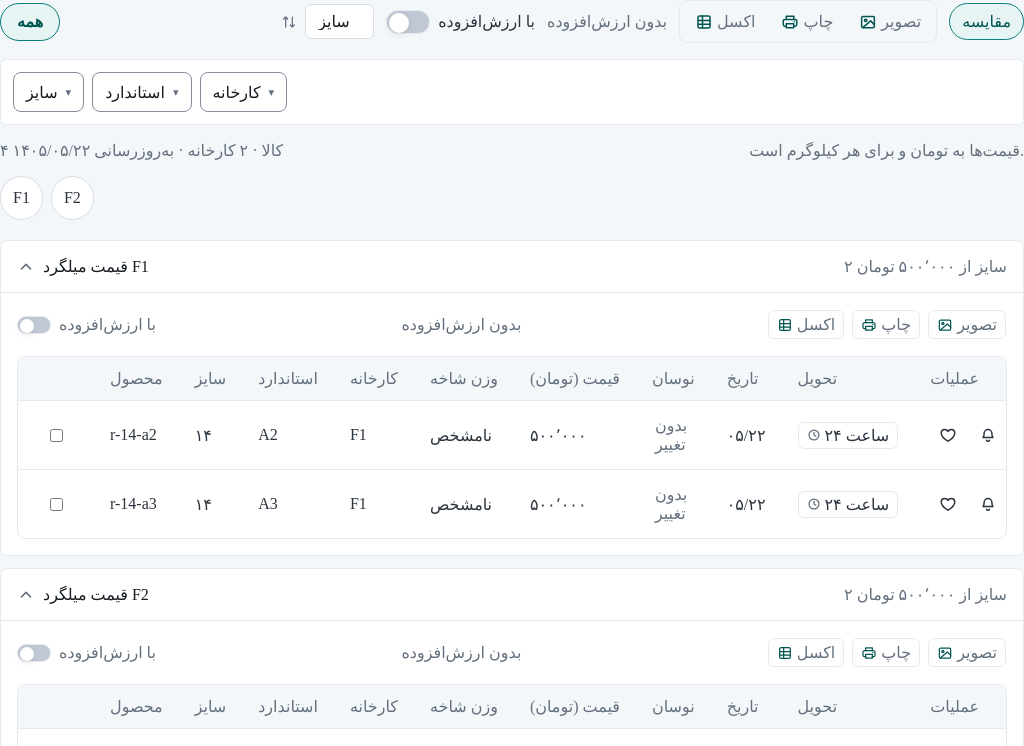
it: PriceTable — spec filter bar (owner request 1405/06/02) › ANDs two different columns: size ۱۴ AND grade A2 leaves exactly one row
Click the button "سایز ▾".
click(49, 92)  # box [13,72,84,112]
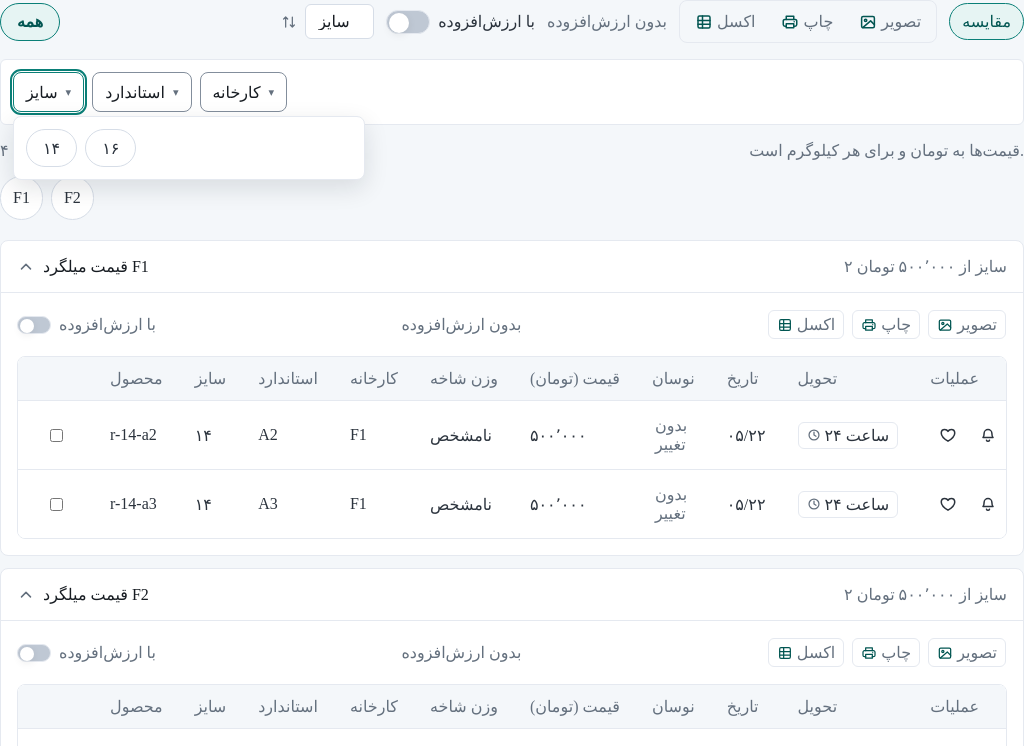
Click the button "۱۴".
click(52, 148)  # box [27,130,76,166]
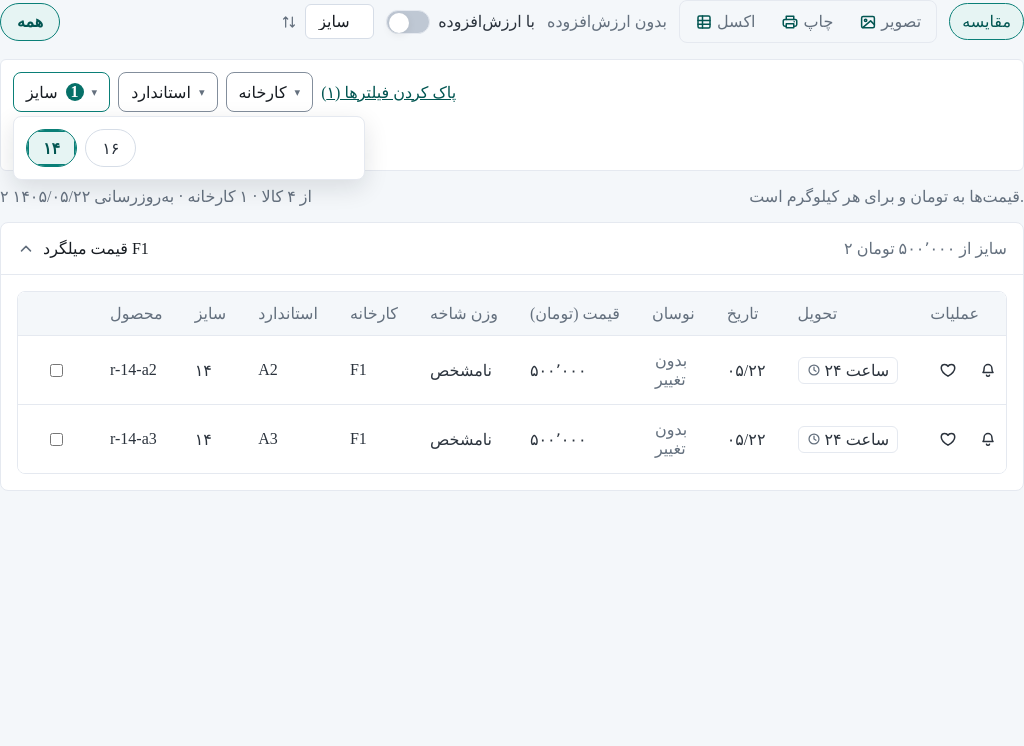
Click the button "استاندارد ▾".
click(168, 92)  # box [118,72,218,112]
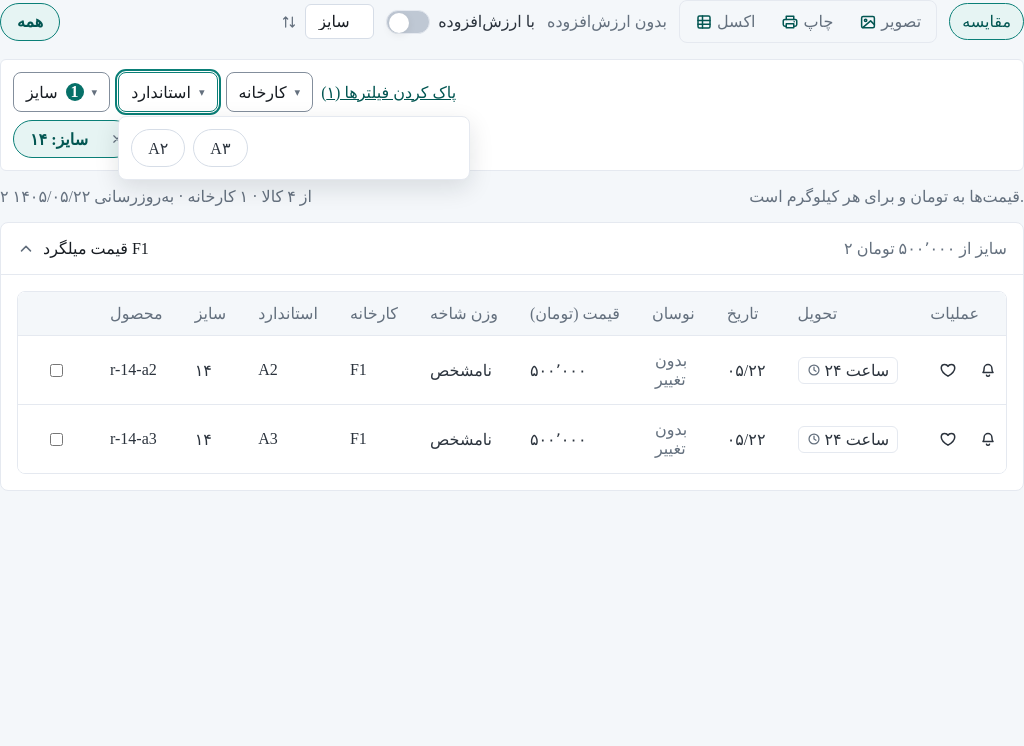
Click the button "A۲".
click(158, 148)  # box [132,130,184,166]
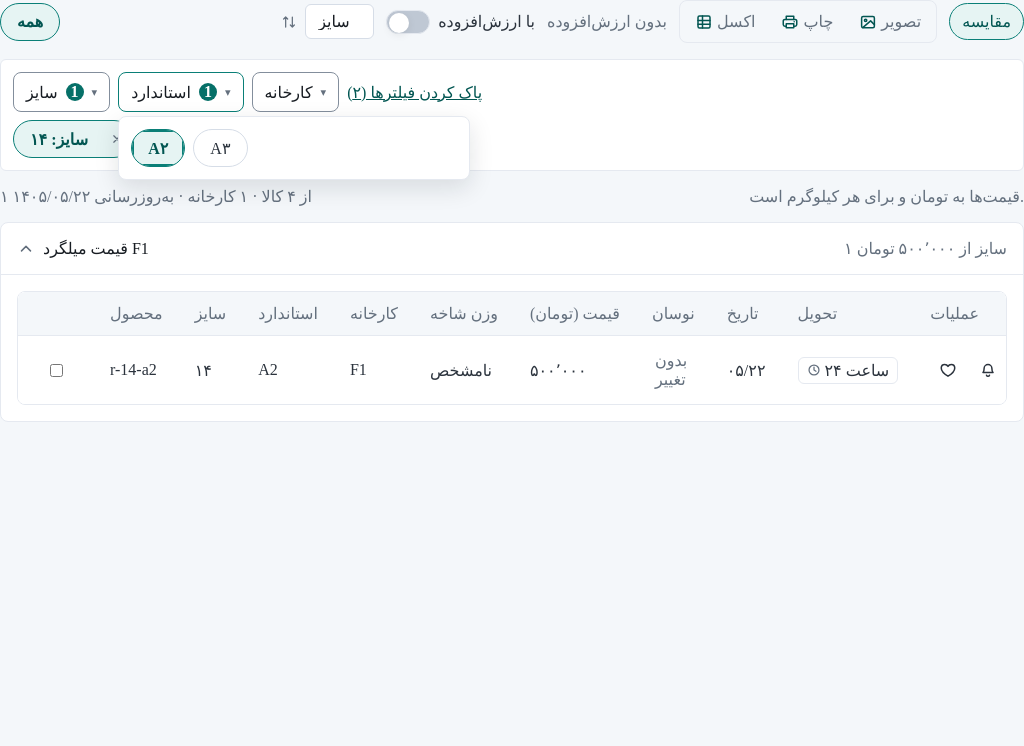
Expected: the link "r-14-a2" is shown, [110,361,157,378]
Result: the link "r-14-a3" is gone
